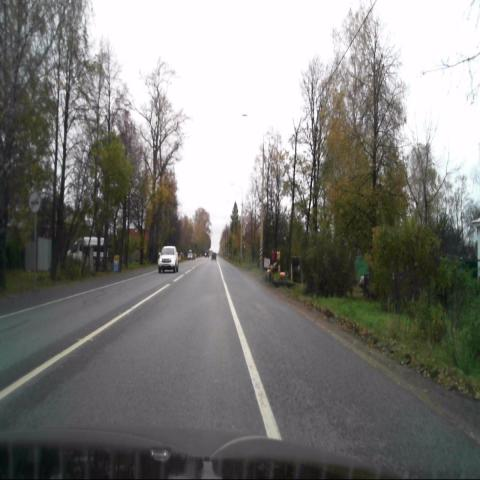3_21: (29, 192, 42, 213)
